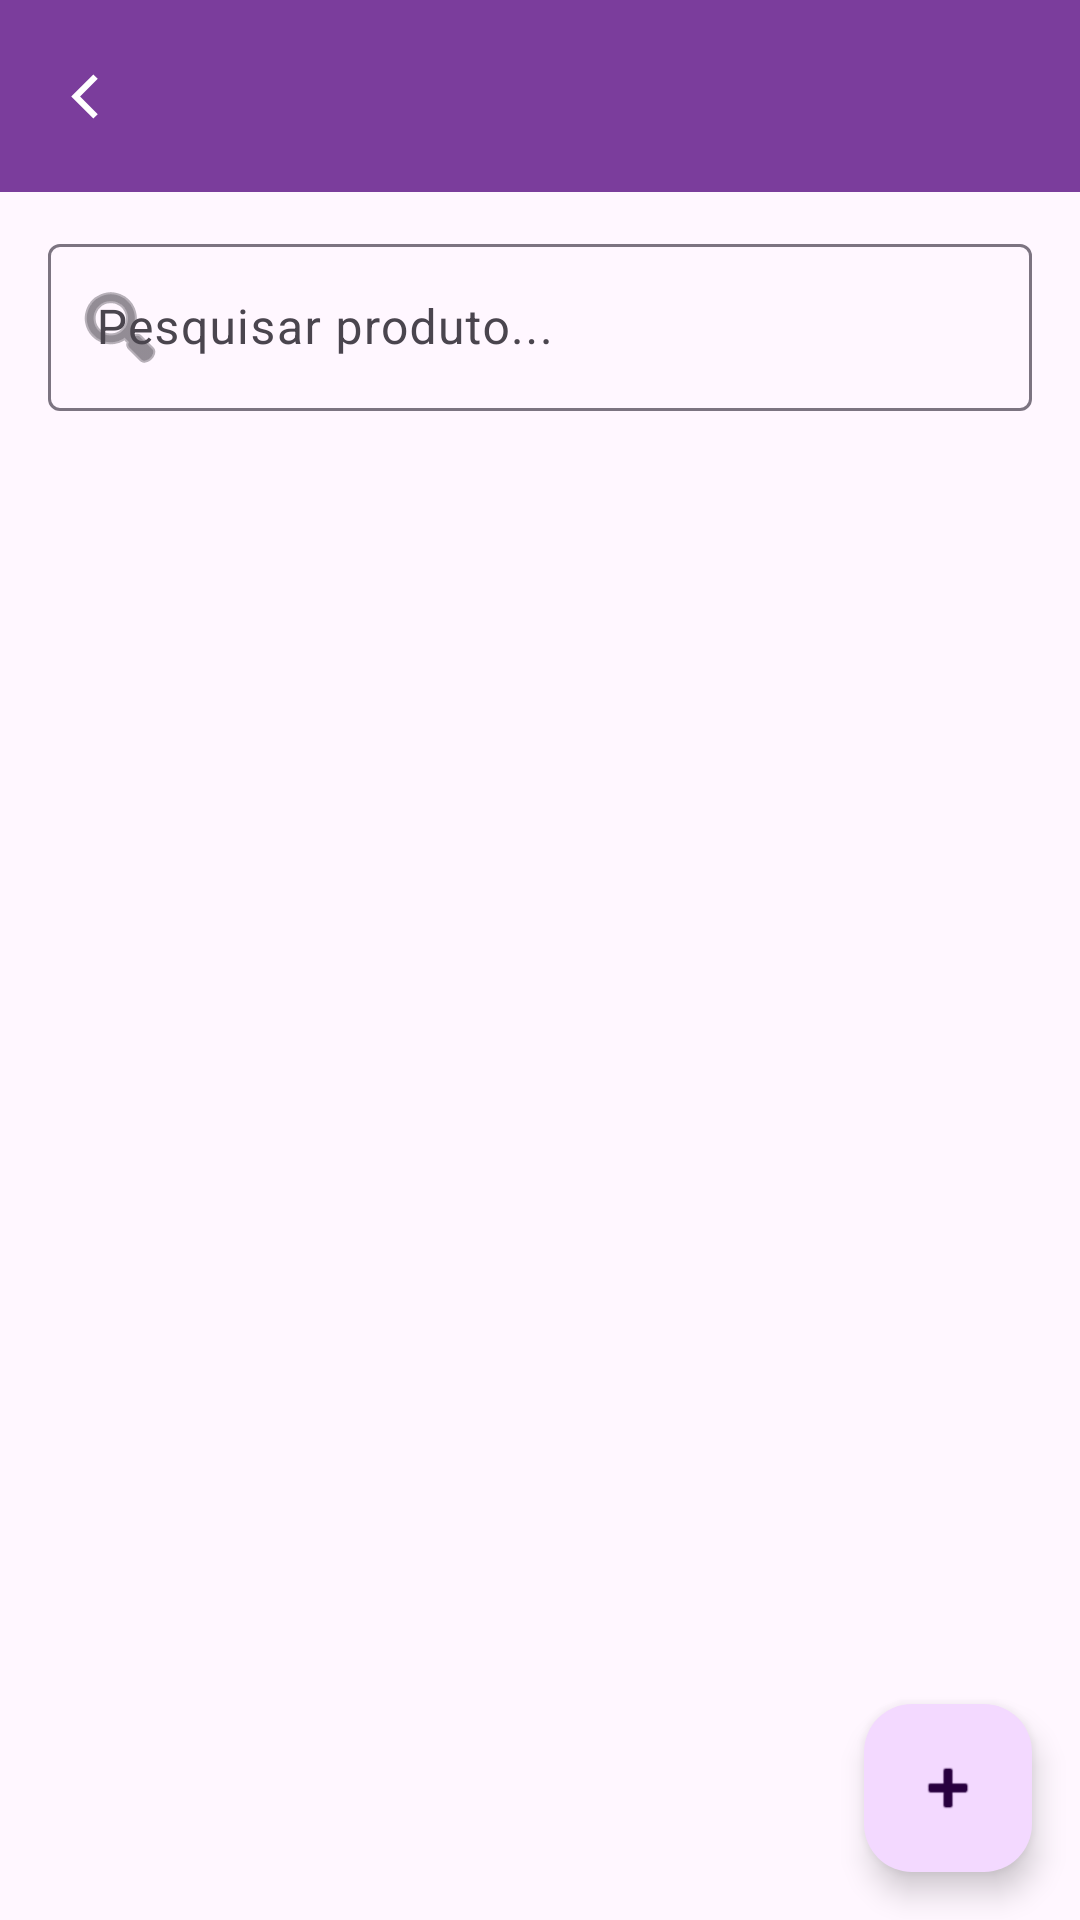

Screen size 1080px×1920px. Icon name, then its center in pixels as point (x, y):
Adicionar novo produto: point (948, 1788)
